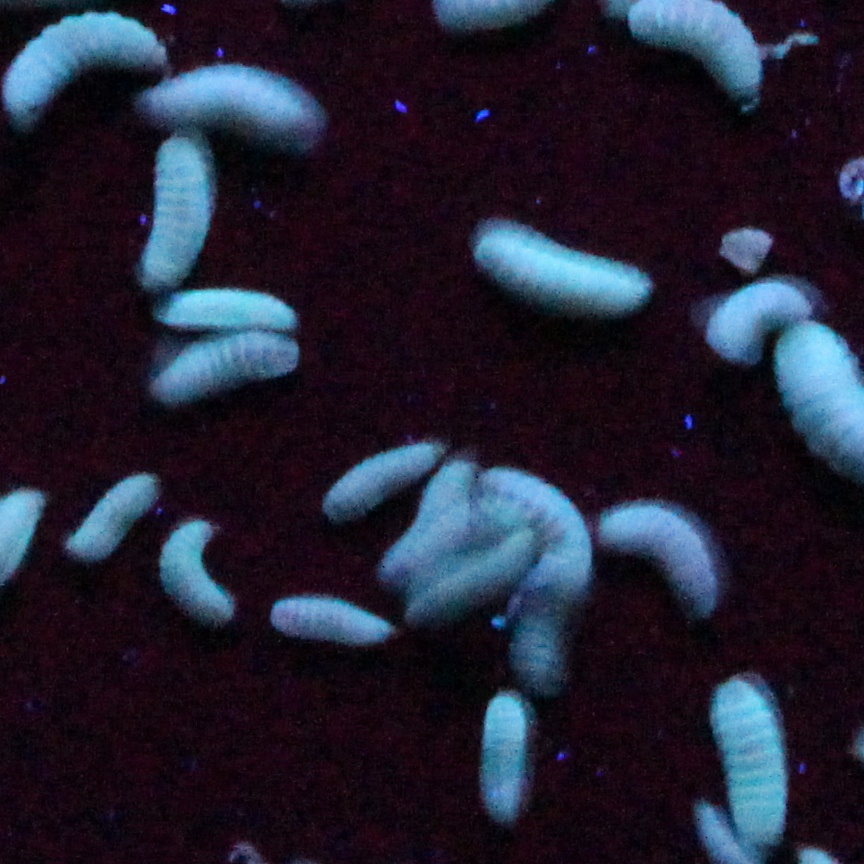larve: (2, 10, 165, 122), (491, 225, 637, 325), (634, 2, 779, 99), (591, 508, 714, 610), (134, 130, 214, 279), (148, 79, 319, 148), (714, 682, 779, 845), (154, 345, 308, 405), (57, 470, 154, 565), (319, 445, 428, 528), (528, 539, 582, 688), (476, 699, 535, 829), (157, 519, 228, 625), (274, 599, 402, 656), (694, 288, 814, 345), (162, 290, 299, 328)
